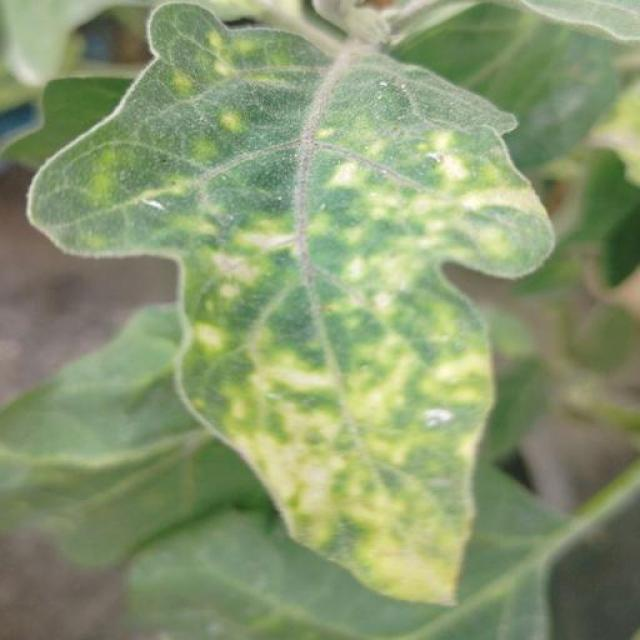leaf_spot: (218, 396, 343, 519), (359, 482, 474, 602), (274, 327, 412, 412), (458, 162, 521, 264), (274, 474, 343, 554), (178, 28, 276, 83), (413, 134, 488, 202), (196, 235, 264, 308), (312, 135, 382, 205), (230, 196, 298, 268), (345, 414, 431, 462), (386, 221, 444, 290), (415, 339, 470, 409), (335, 207, 379, 288), (85, 145, 130, 201), (196, 322, 242, 362), (190, 141, 243, 169), (457, 421, 487, 468), (215, 106, 255, 141), (157, 182, 198, 205), (182, 382, 215, 410)
